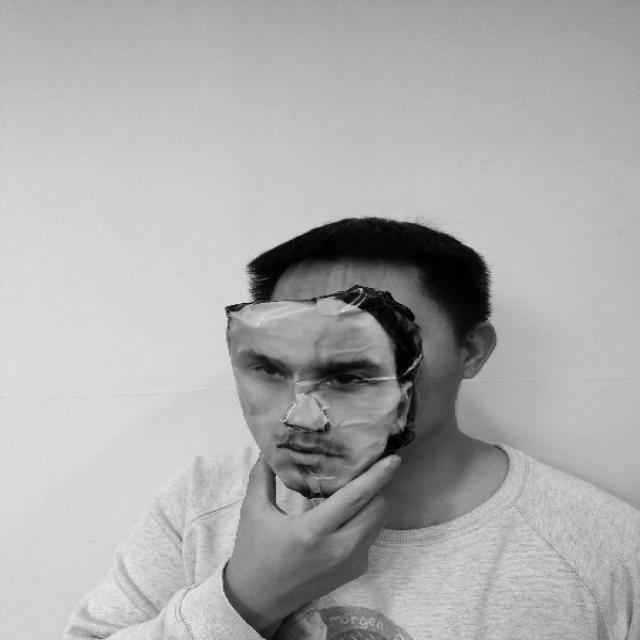fake: (214, 292, 478, 514)
